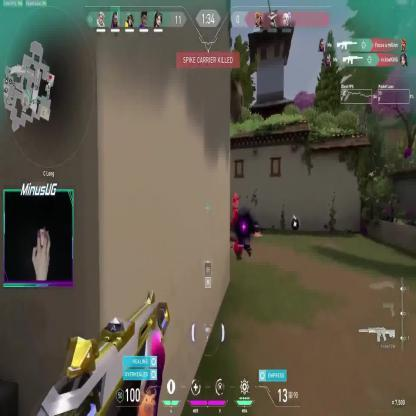enemy: (230, 192, 239, 230)
enemy_head: (233, 192, 238, 202)
